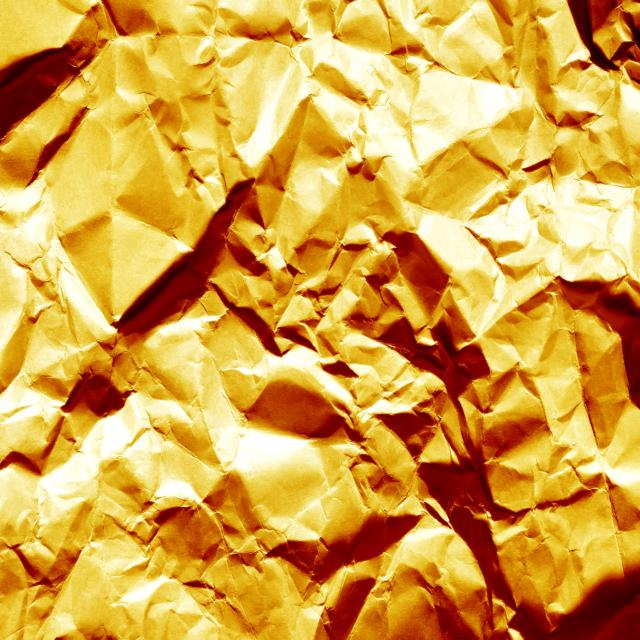cardboard: (100, 87, 500, 510)
